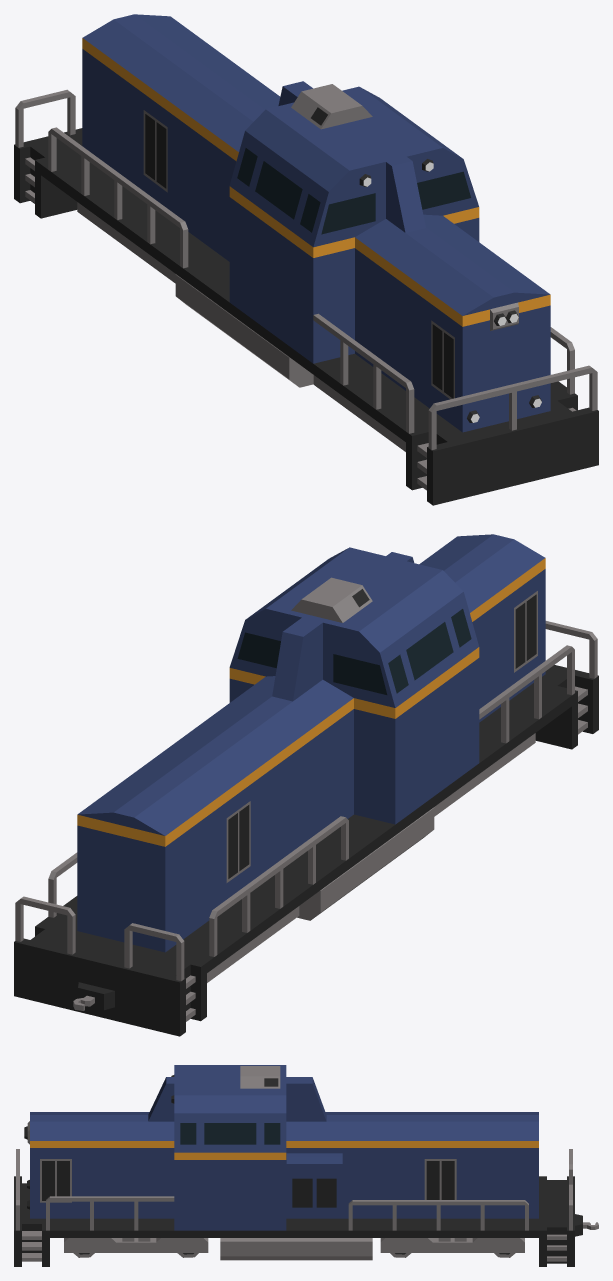
The model's file is freight-train.glb.
The picture shows the model from 3 angles, top to bottom: view 1: azimuth 30°, elevation 25°; view 2: azimuth 150°, elevation 25°; view 3: azimuth 270°, elevation 25°; orthographic projection. The views are drawn at different scales.
Visible parts, largest first — view 1: freight-train-base, freight-train-wheel-frame_B, freight-train-wheel-frame_F; view 2: freight-train-base, freight-train-wheel-frame_F, freight-train-wheel-frame_B; view 3: freight-train-base, freight-train-wheel-frame_B, freight-train-wheel-frame_F.
Boxes of the visible parts, bbox=[...] form: freight-train-base: bbox=[14, 14, 598, 505]; freight-train-wheel-frame_B: bbox=[77, 202, 175, 283]; freight-train-wheel-frame_F: bbox=[313, 375, 405, 451]; freight-train-base: bbox=[14, 534, 598, 1036]; freight-train-wheel-frame_F: bbox=[434, 733, 535, 816]; freight-train-wheel-frame_B: bbox=[207, 906, 299, 982]; freight-train-base: bbox=[14, 1065, 598, 1266]; freight-train-wheel-frame_B: bbox=[380, 1238, 524, 1252]; freight-train-wheel-frame_F: bbox=[64, 1238, 208, 1252].
Bounding box in the file's own units: 3.2 × 4.81 × 14.6.
Materials: 1 (1 with a texture image).
